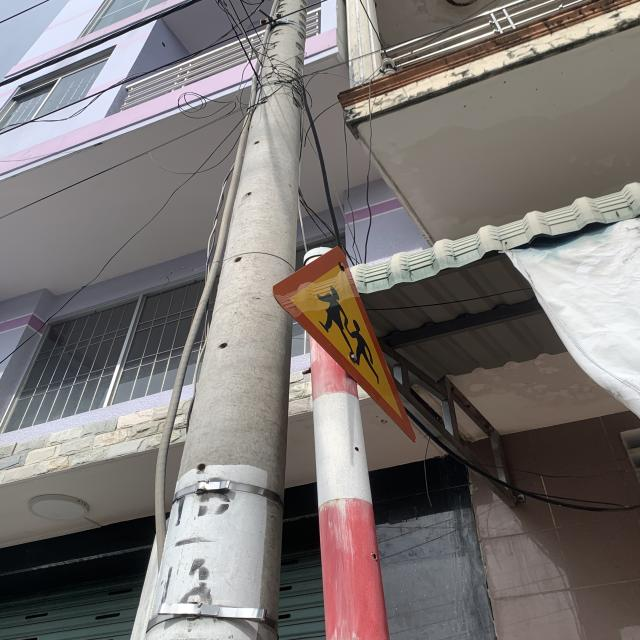Vong_Xuyen: (270, 246, 418, 441)
